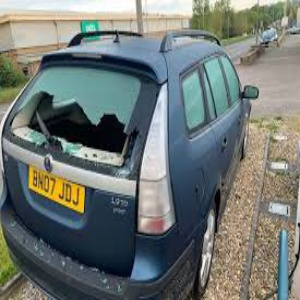bumper_scratch: (112, 156, 207, 242)
